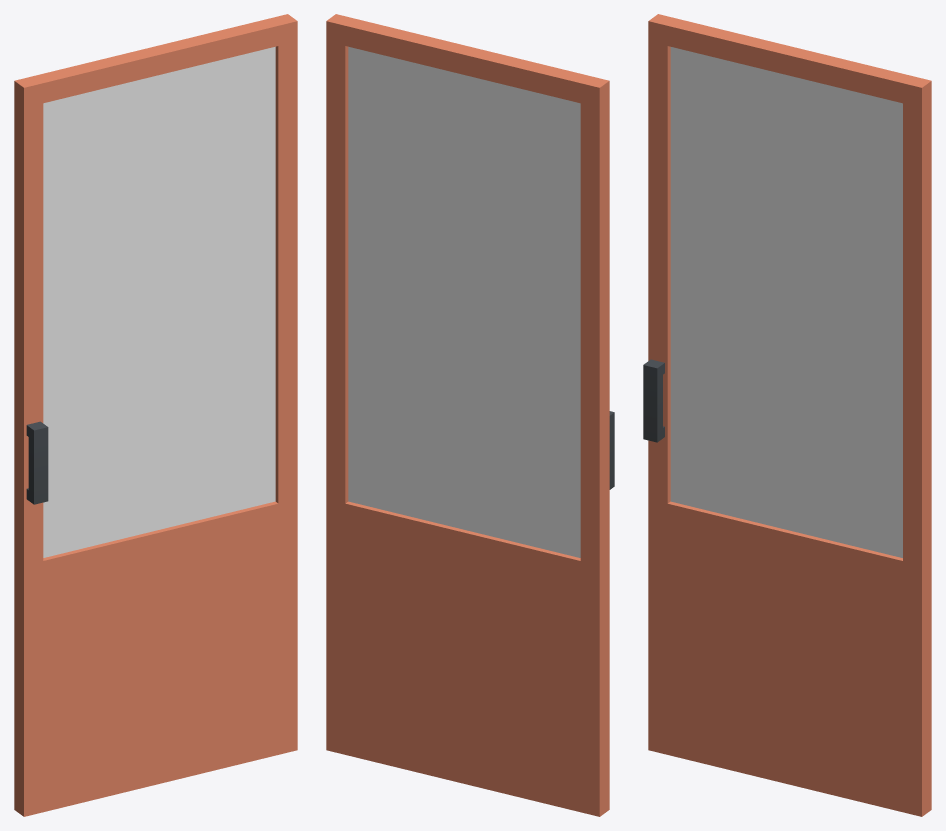
The model's file is Coffee_02_Door02.fbx.
3 renders of one model, left to right at view 1: azimuth 30°, elevation 25°; view 2: azimuth 150°, elevation 25°; view 3: azimuth 330°, elevation 25°, orthographic.
Visible parts, largest first — view 1: Coffee_02_Door02; view 2: Coffee_02_Door02; view 3: Coffee_02_Door02.
Boxes of the visible parts, box(x1,y1,x2,y2) form: Coffee_02_Door02: box(14, 14, 297, 816); Coffee_02_Door02: box(326, 14, 614, 816); Coffee_02_Door02: box(643, 14, 931, 816).
Bounding box in the file's own units: 80.96 × 206 × 8.91.
